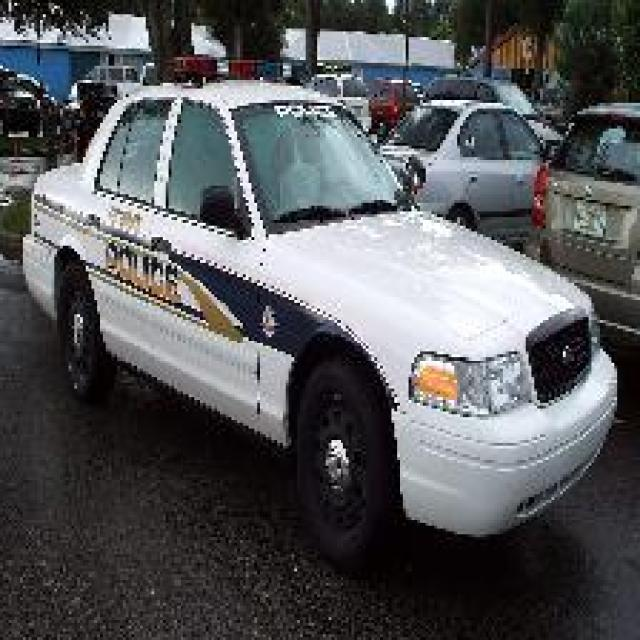Car: (17, 51, 620, 572), (377, 97, 554, 232)
